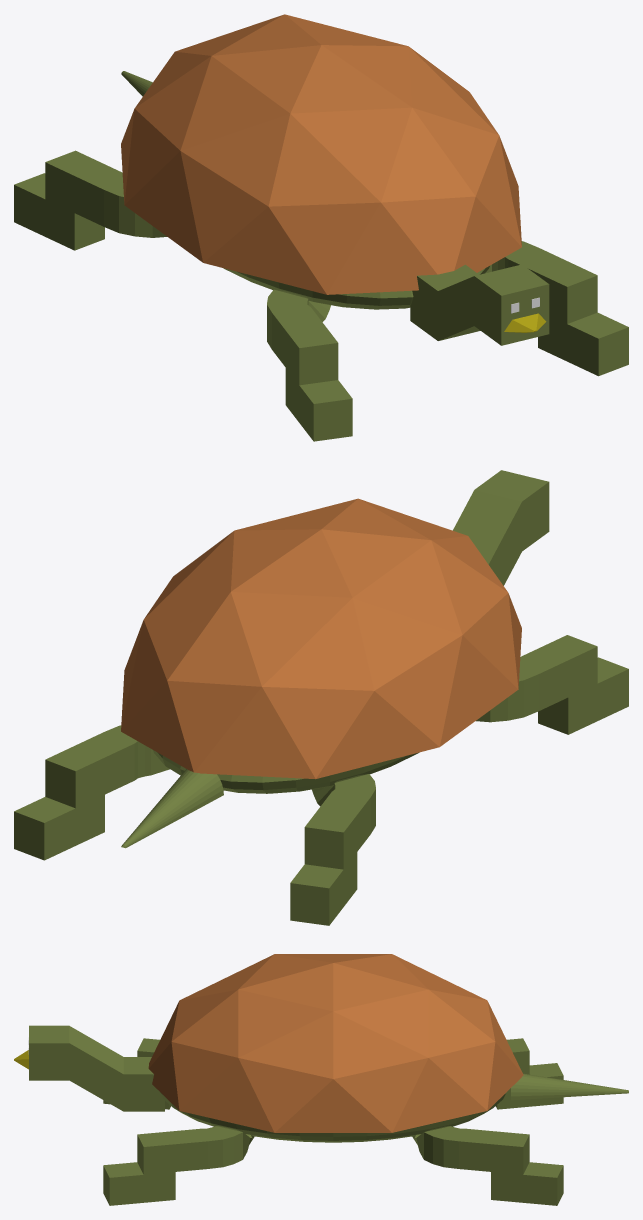
File: Tortoise.fbx
3 renders of one model, top to bottom at view 1: azimuth 30°, elevation 25°; view 2: azimuth 150°, elevation 25°; view 3: azimuth 270°, elevation 25°, orthographic. The views are drawn at different scales.
Parts seen in each view (by area): view 1: Icosphere, Foot.003, Foot.001, Cube.001, Foot, Sphere.001; view 2: Icosphere, Foot.002, Foot.001, Foot.003, Cube.001, Cone, Sphere.001; view 3: Icosphere, Cube.001, Foot.002, Foot, Sphere.001, Cone, Foot.003, Foot.001.
Boxes of the visible parts, <box> form: Icosphere: <box>121,14,521,294</box>; Foot.003: <box>14,150,166,250</box>; Foot.001: <box>267,289,352,441</box>; Cube.001: <box>410,264,549,345</box>; Foot: <box>485,241,628,376</box>; Sphere.001: <box>223,266,489,309</box>; Icosphere: <box>121,498,521,779</box>; Foot.002: <box>14,725,169,860</box>; Foot.001: <box>476,635,628,734</box>; Foot.003: <box>290,774,375,925</box>; Cube.001: <box>453,470,549,585</box>; Cone: <box>121,769,223,848</box>; Sphere.001: <box>153,750,419,793</box>; Icosphere: <box>148,954,523,1132</box>; Cube.001: <box>29,1025,164,1111</box>; Foot.002: <box>412,1126,563,1205</box>; Foot: <box>103,1126,254,1205</box>; Sphere.001: <box>160,1092,506,1142</box>; Cone: <box>511,1073,628,1100</box>; Foot.003: <box>496,1038,563,1109</box>; Foot.001: <box>103,1038,170,1109</box>.
Bounding box in the file's own units: 175 × 131 × 395.
